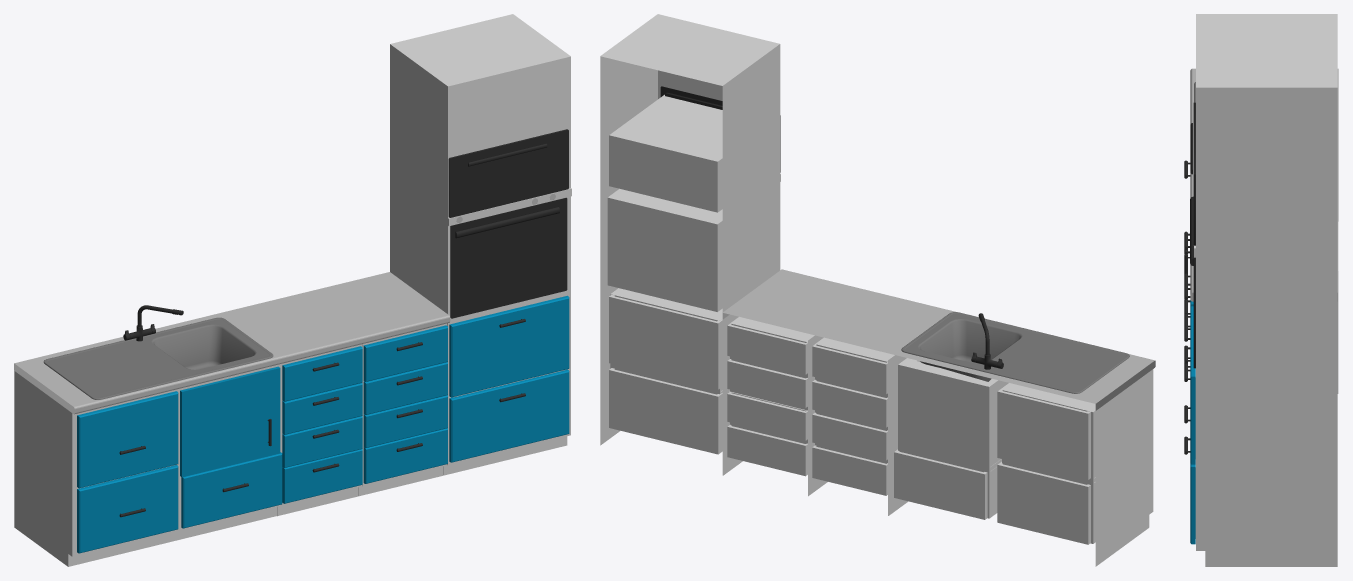
The model's file is kitchen_bottom.fbx.
The picture shows the model from 3 angles, left to right: view 1: azimuth 30°, elevation 25°; view 2: azimuth 150°, elevation 25°; view 3: azimuth 270°, elevation 25°; orthographic projection. The views are drawn at different scales.
Visible parts, largest first — view 1: Shelves, Door_02, Drawer_13, Door_01, Drawer_14, Drawer_01, Door_03, Drawer_02, Drawer_03, Drawer_08, Drawer_12, Drawer_04 (+5 smaller); view 2: Shelves, Drawer_13, Drawer_14, Drawer_01, Drawer_02, Drawer_03, Drawer_12, Drawer_08, Drawer_07, Drawer_04, Drawer_09, Drawer_10 (+2 smaller); view 3: Shelves, Drawer_13, Door_02, Door_03, Drawer_14.
Boxes of the visible parts, x1,y1,x2,y2 form: Shelves: (14, 14, 571, 566); Door_02: (450, 197, 567, 318); Drawer_13: (449, 295, 569, 397); Door_01: (180, 366, 280, 477); Drawer_14: (449, 369, 569, 462); Drawer_01: (77, 391, 178, 488); Door_03: (448, 129, 568, 217); Drawer_02: (77, 465, 178, 553); Drawer_03: (181, 452, 282, 528); Drawer_08: (363, 325, 447, 381); Drawer_12: (363, 428, 447, 483); Drawer_04: (282, 346, 362, 401); Shelves: (600, 14, 1155, 566); Drawer_13: (609, 294, 722, 389); Drawer_14: (609, 368, 722, 454); Drawer_01: (997, 383, 1090, 479); Drawer_02: (997, 461, 1090, 544); Drawer_03: (894, 449, 987, 519); Drawer_12: (727, 424, 807, 476); Drawer_08: (727, 323, 807, 374); Drawer_07: (812, 445, 887, 495); Drawer_04: (812, 344, 887, 394); Drawer_09: (727, 359, 807, 407); Drawer_10: (727, 392, 807, 440); Shelves: (1190, 14, 1338, 566); Drawer_13: (1184, 306, 1195, 464); Door_02: (1190, 196, 1195, 368); Door_03: (1190, 102, 1195, 245); Drawer_14: (1184, 436, 1195, 544).
Size of the model in its own units: 2.86 by 2.15 by 0.6275.
